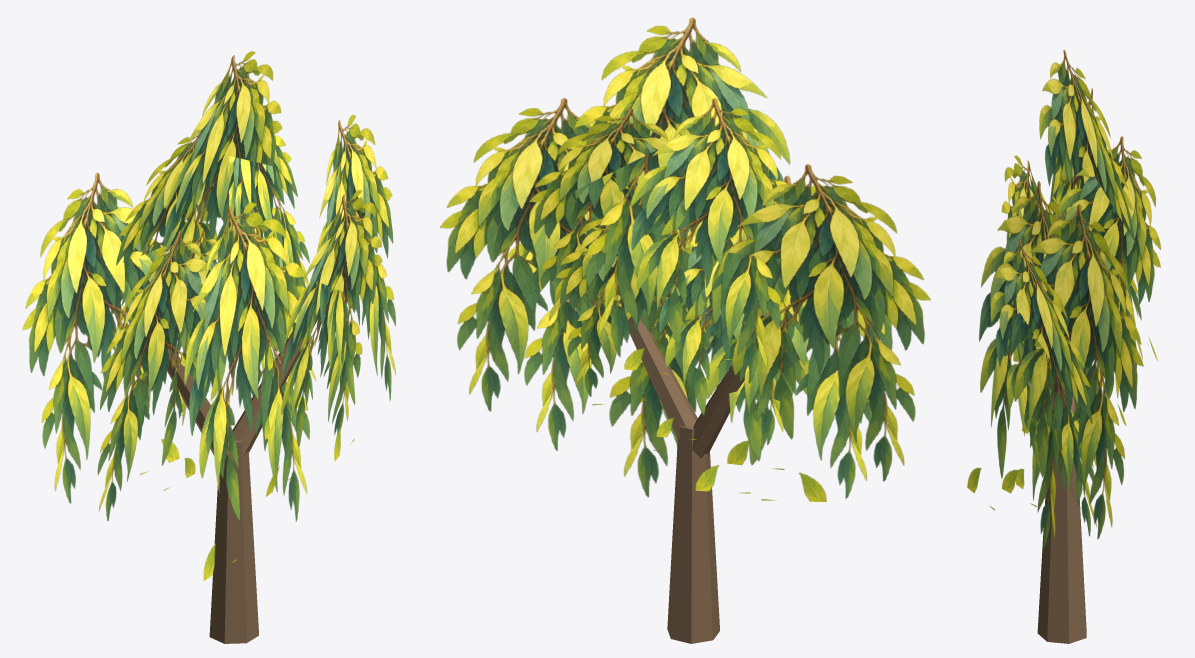
Rendered from TREE_NATIVE_ROUNDED_001_SHAPE_SAFE_LOD_CLOSE.glb.
The picture shows the model from 3 angles, left to right: view 1: azimuth 30°, elevation 25°; view 2: azimuth 150°, elevation 25°; view 3: azimuth 270°, elevation 25°; orthographic projection. The views are drawn at different scales.
Visible parts, largest first — view 1: GG_NATIVE_SHAPE_SAFE_CARD_07, GG_NATIVE_SHAPE_SAFE_CARD_03, GG_NATIVE_SHAPE_SAFE_CARD_04, GG_NATIVE_SHAPE_SAFE_CARD_06, GG_NATIVE_SHAPE_SAFE_CARD_00, GG_NATIVE_SHAPE_SAFE_CARD_05, GG_NATIVE_V4_LOCKED_CARCASS_00, GG_NATIVE_SHAPE_SAFE_CARD_02, GG_NATIVE_SHAPE_SAFE_CARD_01, GG_NATIVE_V4_LOCKED_CARCASS_02, GG_NATIVE_V4_LOCKED_CARCASS_01, GG_NATIVE_SHAPE_SAFE_CARD_08 (+1 smaller); view 2: GG_NATIVE_SHAPE_SAFE_CARD_03, GG_NATIVE_SHAPE_SAFE_CARD_01, GG_NATIVE_SHAPE_SAFE_CARD_00, GG_NATIVE_SHAPE_SAFE_CARD_05, GG_NATIVE_SHAPE_SAFE_CARD_02, GG_NATIVE_SHAPE_SAFE_CARD_04, GG_NATIVE_V4_LOCKED_CARCASS_00, GG_NATIVE_SHAPE_SAFE_CARD_08, GG_NATIVE_SHAPE_SAFE_CARD_07, GG_NATIVE_SHAPE_SAFE_CARD_09, GG_NATIVE_SHAPE_SAFE_CARD_06, GG_NATIVE_V4_LOCKED_CARCASS_02 (+1 smaller); view 3: GG_NATIVE_SHAPE_SAFE_CARD_05, GG_NATIVE_SHAPE_SAFE_CARD_06, GG_NATIVE_SHAPE_SAFE_CARD_07, GG_NATIVE_SHAPE_SAFE_CARD_00, GG_NATIVE_SHAPE_SAFE_CARD_02, GG_NATIVE_V4_LOCKED_CARCASS_00, GG_NATIVE_SHAPE_SAFE_CARD_04, GG_NATIVE_SHAPE_SAFE_CARD_03, GG_NATIVE_SHAPE_SAFE_CARD_09.
Boxes of the visible parts, x1,y1,x2,y2 form: GG_NATIVE_SHAPE_SAFE_CARD_07: [184, 202, 309, 580]; GG_NATIVE_SHAPE_SAFE_CARD_03: [22, 173, 179, 503]; GG_NATIVE_SHAPE_SAFE_CARD_04: [97, 230, 211, 521]; GG_NATIVE_SHAPE_SAFE_CARD_06: [266, 190, 382, 496]; GG_NATIVE_SHAPE_SAFE_CARD_00: [146, 51, 282, 375]; GG_NATIVE_SHAPE_SAFE_CARD_05: [316, 115, 395, 461]; GG_NATIVE_V4_LOCKED_CARCASS_00: [209, 440, 258, 643]; GG_NATIVE_SHAPE_SAFE_CARD_02: [227, 135, 309, 370]; GG_NATIVE_SHAPE_SAFE_CARD_01: [111, 131, 228, 345]; GG_NATIVE_V4_LOCKED_CARCASS_02: [232, 314, 318, 455]; GG_NATIVE_V4_LOCKED_CARCASS_01: [167, 347, 233, 469]; GG_NATIVE_SHAPE_SAFE_CARD_08: [133, 229, 218, 425]; GG_NATIVE_SHAPE_SAFE_CARD_03: [716, 164, 930, 481]; GG_NATIVE_SHAPE_SAFE_CARD_01: [624, 98, 788, 383]; GG_NATIVE_SHAPE_SAFE_CARD_00: [568, 17, 789, 359]; GG_NATIVE_SHAPE_SAFE_CARD_05: [440, 98, 643, 411]; GG_NATIVE_SHAPE_SAFE_CARD_02: [529, 108, 698, 333]; GG_NATIVE_SHAPE_SAFE_CARD_04: [695, 175, 892, 498]; GG_NATIVE_V4_LOCKED_CARCASS_00: [667, 425, 719, 643]; GG_NATIVE_SHAPE_SAFE_CARD_08: [656, 220, 807, 444]; GG_NATIVE_SHAPE_SAFE_CARD_07: [597, 219, 826, 501]; GG_NATIVE_SHAPE_SAFE_CARD_09: [555, 198, 706, 396]; GG_NATIVE_SHAPE_SAFE_CARD_06: [507, 224, 669, 450]; GG_NATIVE_V4_LOCKED_CARCASS_02: [628, 316, 697, 439]; GG_NATIVE_SHAPE_SAFE_CARD_05: [1002, 204, 1143, 538]; GG_NATIVE_SHAPE_SAFE_CARD_06: [990, 239, 1096, 536]; GG_NATIVE_SHAPE_SAFE_CARD_07: [967, 181, 1078, 550]; GG_NATIVE_SHAPE_SAFE_CARD_00: [1039, 50, 1142, 368]; GG_NATIVE_SHAPE_SAFE_CARD_02: [1054, 136, 1160, 398]; GG_NATIVE_V4_LOCKED_CARCASS_00: [1037, 452, 1086, 643]; GG_NATIVE_SHAPE_SAFE_CARD_04: [1001, 155, 1096, 465]; GG_NATIVE_SHAPE_SAFE_CARD_03: [1050, 88, 1094, 215]; GG_NATIVE_SHAPE_SAFE_CARD_09: [1022, 268, 1120, 464].
Bounding box in the file's own units: 32.41 × 41.89 × 14.1.
2 materials, 1 textured.
